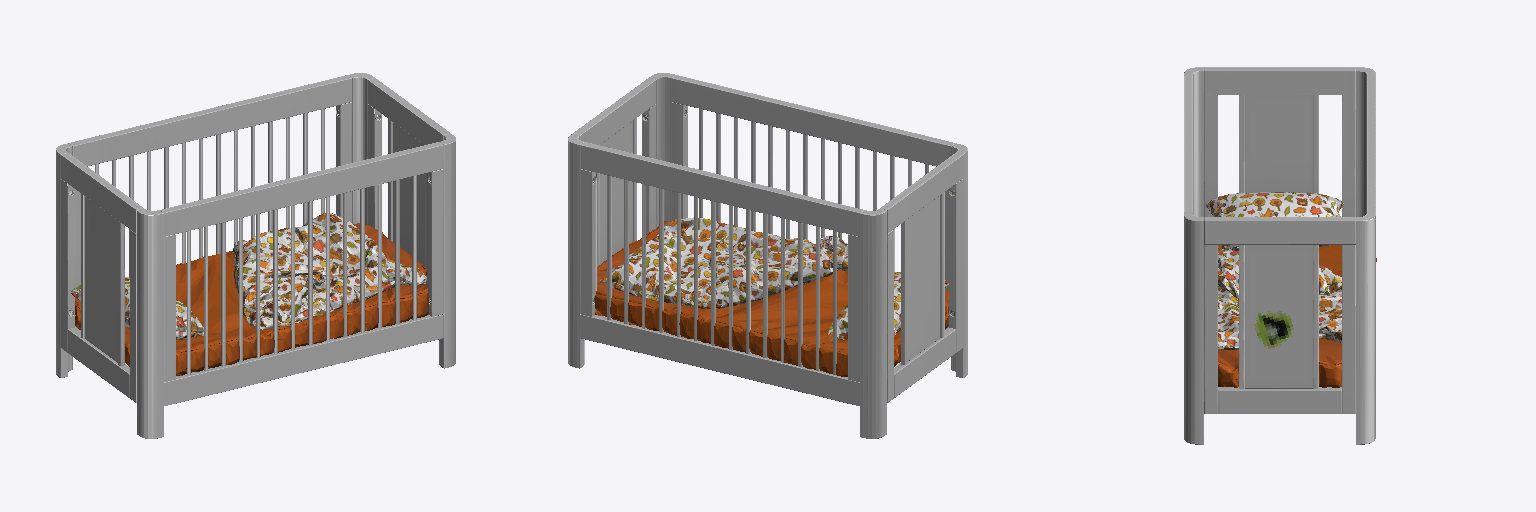
3 views of the same model, side by side, from view 1: azimuth 30°, elevation 25°; view 2: azimuth 150°, elevation 25°; view 3: azimuth 270°, elevation 25° (orthographic).
Visible parts, largest first — view 1: solid_002, solid_001, solid_005; view 2: solid_002, solid_001, solid_005; view 3: solid_002, solid_001, solid_005, glass_001.
Part boxes in pixels (x1,y1,x2,y2): solid_002: (56, 73, 455, 438); solid_001: (71, 213, 426, 339); solid_005: (75, 223, 428, 375); solid_002: (568, 73, 967, 438); solid_001: (600, 217, 948, 340); solid_005: (594, 221, 948, 376); solid_002: (1184, 67, 1375, 444); solid_001: (1206, 192, 1343, 349); solid_005: (1218, 245, 1376, 387); glass_001: (1254, 310, 1293, 348).
Bounding box in the file's own units: 1.69 × 1.15 × 0.8999.
Materials: 1 (1 with a texture image).